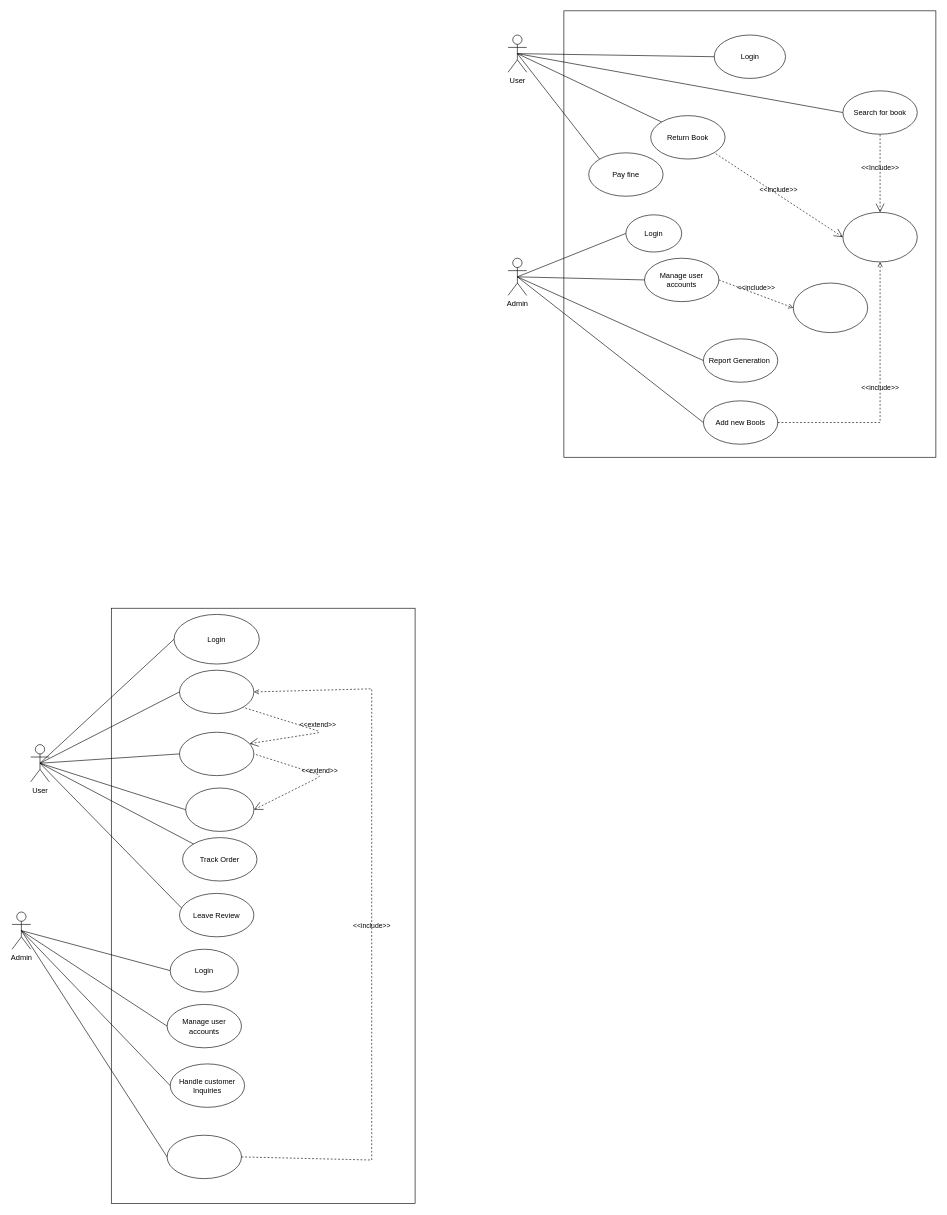
Some shapes in this 947 by 1215 pixel diagram are drawn without their labels. Here are the shapes that lost their labels. From the top down, the box of each, then its label:
(842, 212, 917, 262): Books database
(793, 282, 868, 333): Add/Delete User
(179, 670, 254, 714): Browse Product
(179, 732, 254, 776): Add Item
(185, 787, 254, 831): Place Orders
(166, 1135, 241, 1179): Manage Products
